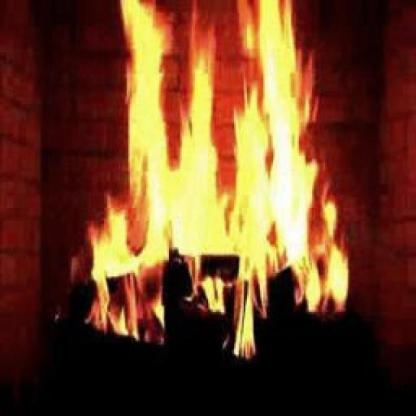fire: (71, 0, 355, 363)
